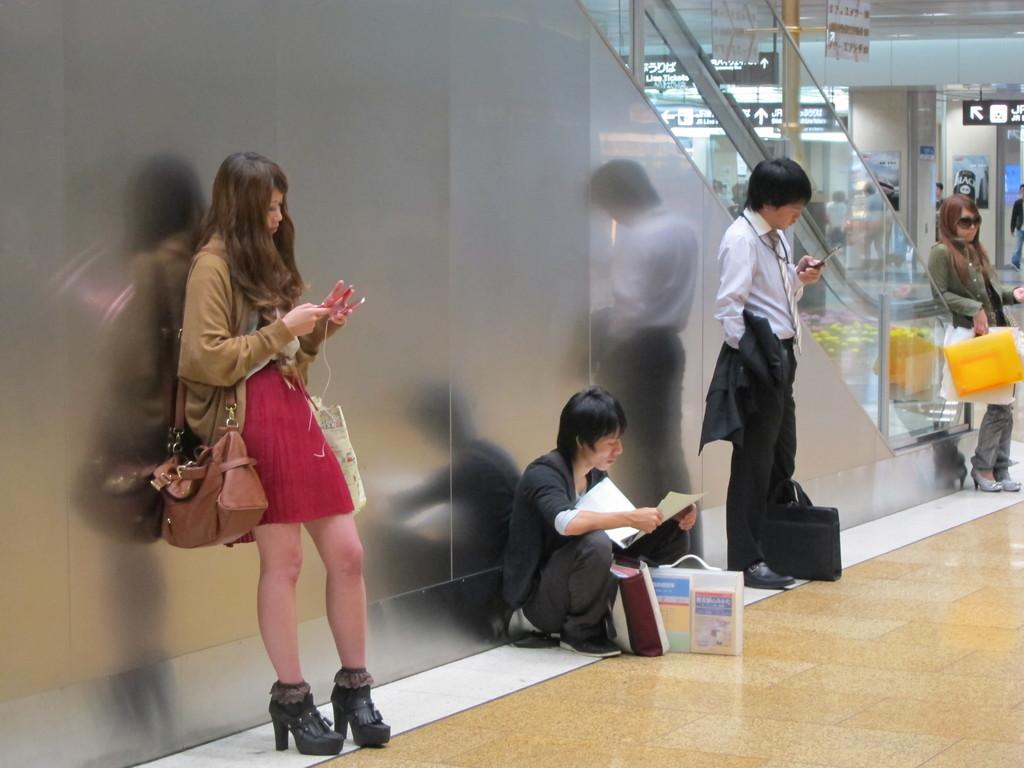Luggage-and-bags: (145, 249, 269, 553), (744, 483, 858, 598), (646, 554, 741, 655), (609, 560, 667, 662), (937, 331, 1023, 396)
